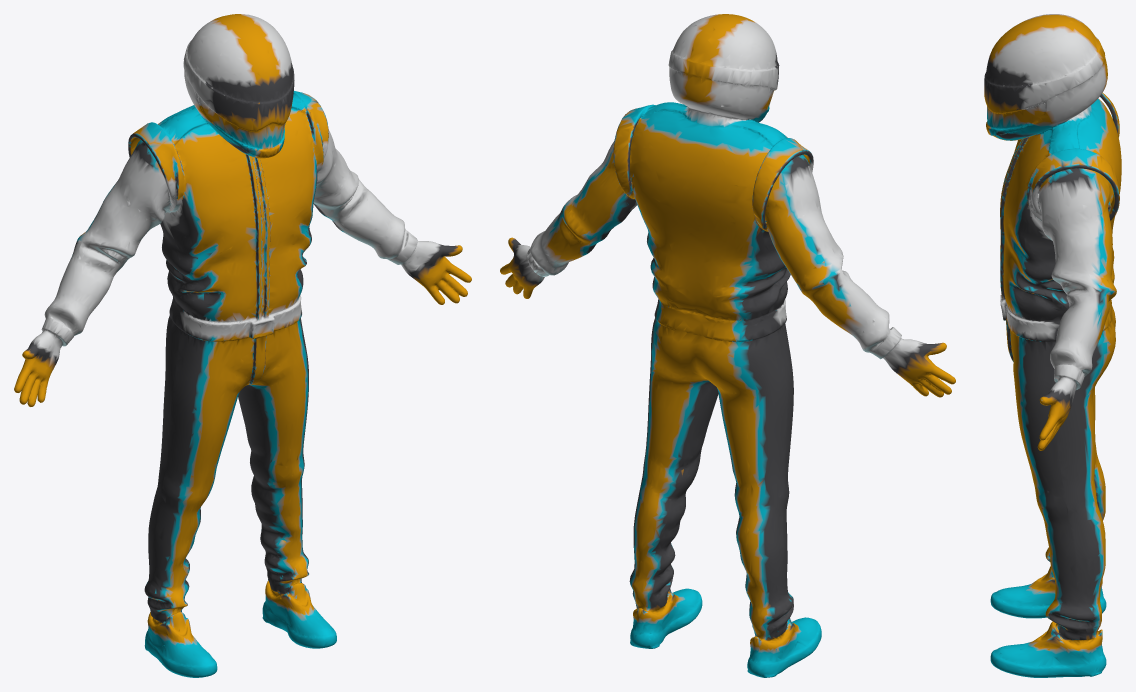
File: miles_rig.glb
The picture shows the model from 3 angles, left to right: view 1: azimuth 30°, elevation 25°; view 2: azimuth 150°, elevation 25°; view 3: azimuth 270°, elevation 25°; orthographic projection.
Visible parts, largest first — view 1: geometry_0; view 2: geometry_0; view 3: geometry_0.
Part boxes in pixels (x1,y1,x2,y2): geometry_0: (14,14,471,677); geometry_0: (500,14,955,677); geometry_0: (984,14,1121,677).
Bounding box in the file's own units: 0.7605 × 1 × 0.1996.
